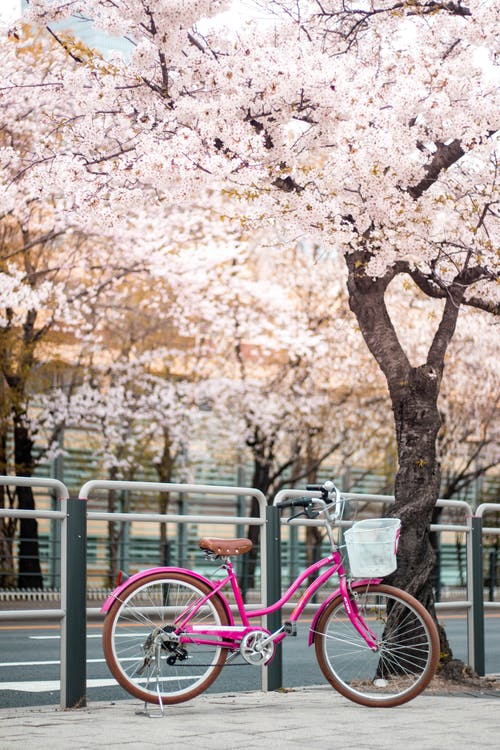bicycle: (99, 472, 446, 719)
